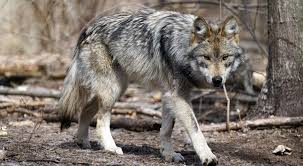Lobo: (63, 12, 238, 151)
